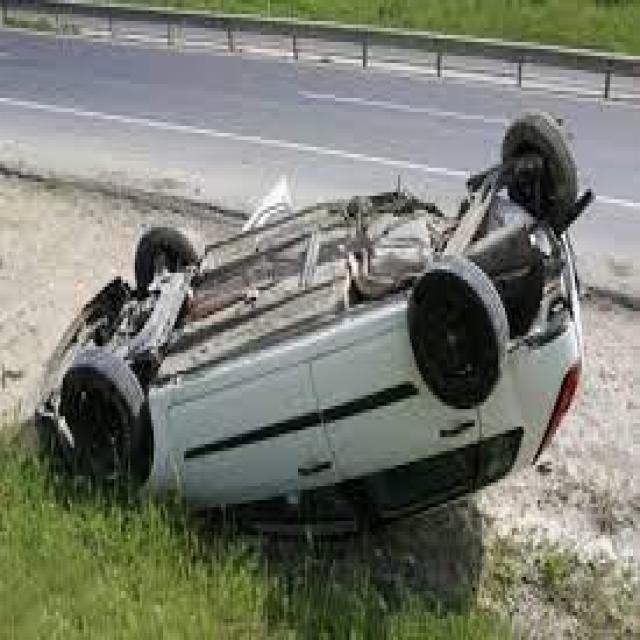accident: (24, 103, 600, 551)
